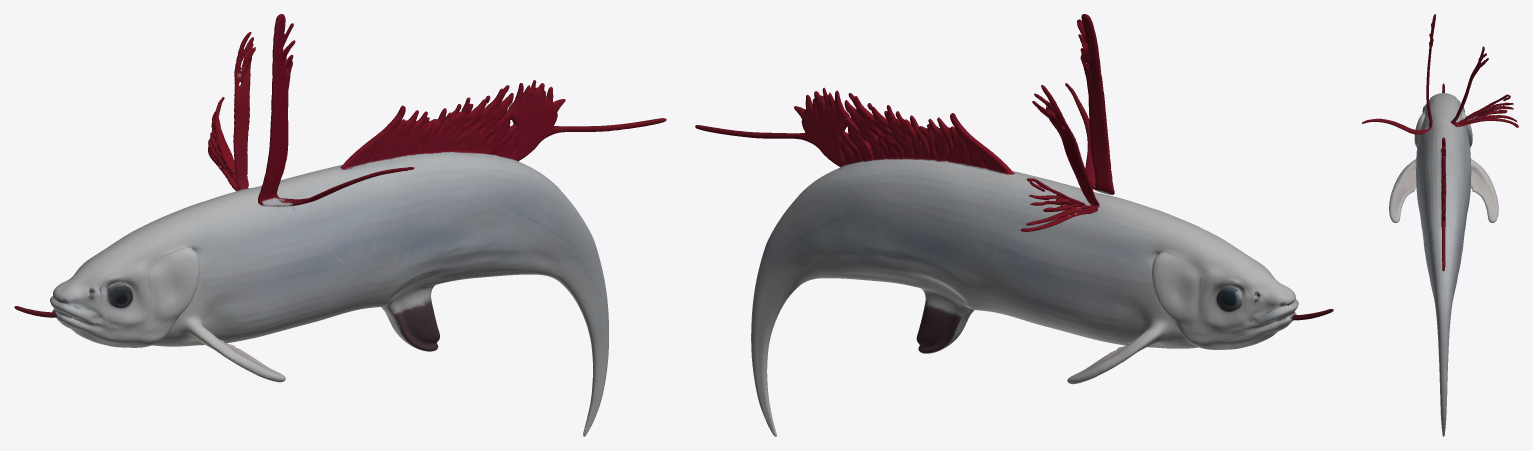
Rendered from real_oarfish_a.glb.
The picture shows the model from 3 angles, left to right: view 1: azimuth 30°, elevation 25°; view 2: azimuth 150°, elevation 25°; view 3: azimuth 270°, elevation 25°; orthographic projection. The views are drawn at different scales.
Parts seen in each view (by area): view 1: tripo_node_23981edb-1b82-47c3-af68-9860c26437c3; view 2: tripo_node_23981edb-1b82-47c3-af68-9860c26437c3; view 3: tripo_node_23981edb-1b82-47c3-af68-9860c26437c3.
Part boxes in pixels (<box>): tripo_node_23981edb-1b82-47c3-af68-9860c26437c3: <box>14,14,666,436</box>; tripo_node_23981edb-1b82-47c3-af68-9860c26437c3: <box>695,14,1333,436</box>; tripo_node_23981edb-1b82-47c3-af68-9860c26437c3: <box>1362,14,1518,436</box>.
Size of the model in its own units: 1 by 0.7371 by 0.3227.
1 material, 1 textured.
